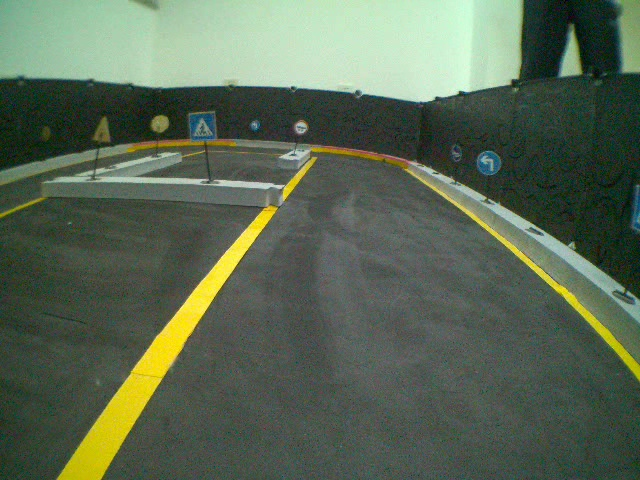Check: (292, 118, 308, 135)
crossing: (188, 111, 217, 140)
horn: (450, 141, 466, 165)
turn: (477, 149, 501, 175), (248, 116, 263, 133)
